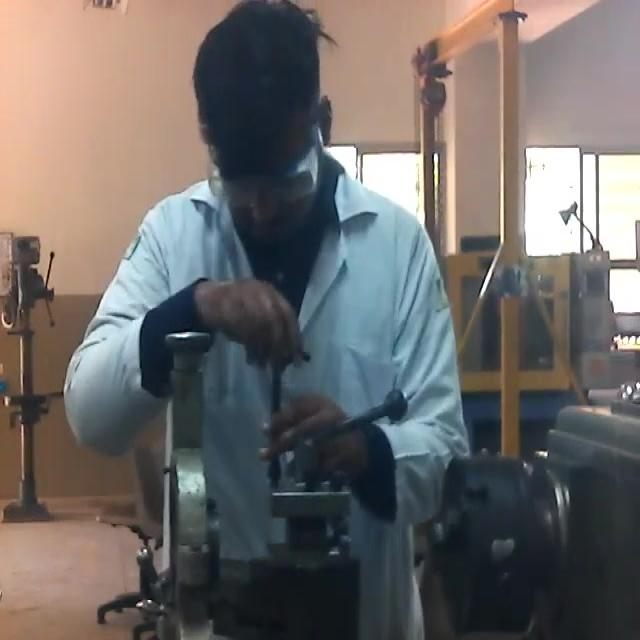googles: (208, 152, 318, 218)
labcoat: (62, 153, 472, 640)
